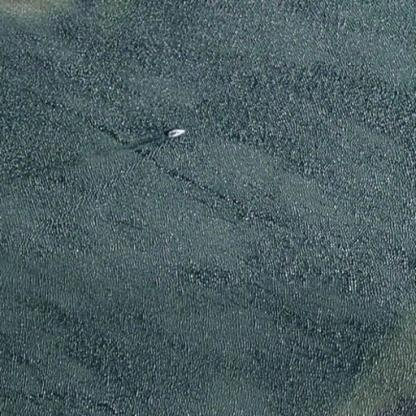ship: (160, 123, 189, 142)
